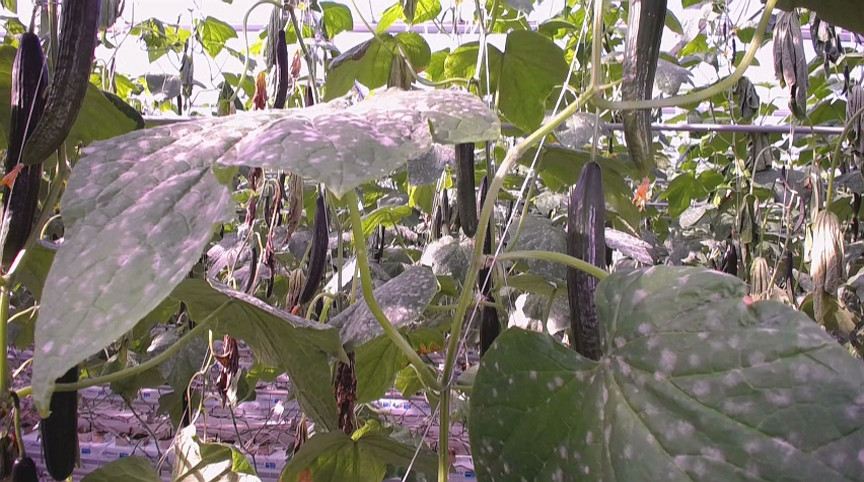cucumber: (21, 1, 103, 164), (1, 32, 46, 259), (570, 164, 608, 360), (623, 1, 667, 170), (44, 366, 78, 482), (297, 195, 331, 304), (455, 142, 478, 239), (270, 31, 290, 111)
